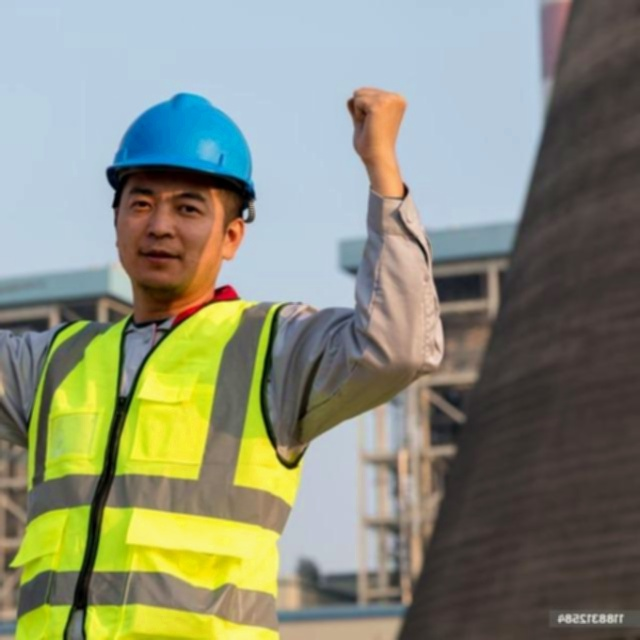Con_Casco: (104, 91, 258, 292)
Con_Chaleco: (4, 295, 312, 640)
